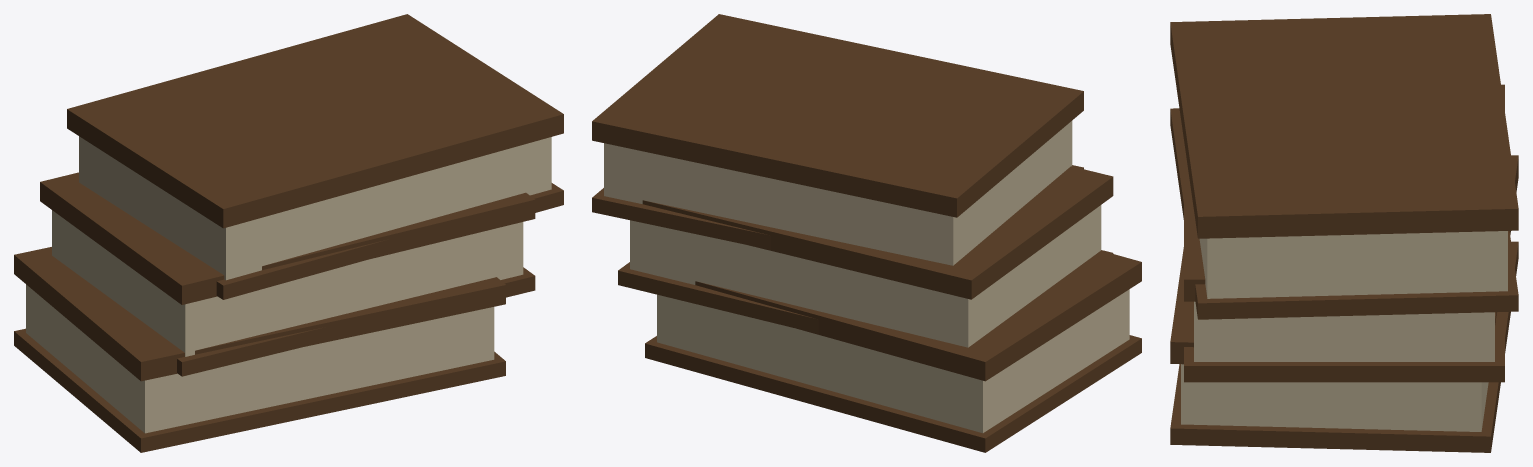
Rendered from books_stack.glb.
The picture shows the model from 3 angles, left to right: view 1: azimuth 30°, elevation 25°; view 2: azimuth 150°, elevation 25°; view 3: azimuth 270°, elevation 25°; orthographic projection. The views are drawn at different scales.
Visible parts, largest first — view 1: _MeshInstance3D_168, paper__book_pages, _MeshInstance3D_167, _MeshInstance3D_164, wood__book_cover, _MeshInstance3D_165, wood__book_back, _MeshInstance3D_169, _MeshInstance3D_166; view 2: _MeshInstance3D_168, paper__book_pages, _MeshInstance3D_164, _MeshInstance3D_167, _MeshInstance3D_165, wood__book_cover, wood__book_back, _MeshInstance3D_166, _MeshInstance3D_169; view 3: _MeshInstance3D_168, _MeshInstance3D_167, paper__book_pages, _MeshInstance3D_164, _MeshInstance3D_169, wood__book_back, _MeshInstance3D_166, _MeshInstance3D_165, wood__book_cover.
Boxes of the visible parts, x1,y1,x2,y2 form: _MeshInstance3D_168: (67,14,563,228); paper__book_pages: (26,284,494,433); _MeshInstance3D_167: (79,136,551,280); _MeshInstance3D_164: (52,210,523,356); wood__book_cover: (14,247,505,381); _MeshInstance3D_165: (40,172,535,304); wood__book_back: (14,328,505,452); _MeshInstance3D_169: (216,183,563,299); _MeshInstance3D_166: (177,267,535,376); _MeshInstance3D_168: (592,14,1083,217); paper__book_pages: (657,289,1129,433); _MeshInstance3D_164: (630,205,1101,347); _MeshInstance3D_167: (604,121,1072,265); _MeshInstance3D_165: (642,166,1113,299); wood__book_cover: (695,250,1141,381); wood__book_back: (645,335,1141,452); _MeshInstance3D_166: (618,250,1113,333); _MeshInstance3D_169: (592,165,1083,249); _MeshInstance3D_168: (1170,14,1518,238); _MeshInstance3D_167: (1199,231,1507,298); paper__book_pages: (1181,364,1488,431); _MeshInstance3D_164: (1194,301,1494,361); _MeshInstance3D_169: (1170,108,1518,319); wood__book_back: (1170,241,1518,452); _MeshInstance3D_166: (1184,312,1504,382); _MeshInstance3D_165: (1184,84,1504,301); wood__book_cover: (1170,155,1518,364).
Bounding box in the file's own units: 0.2752 × 0.1465 × 0.1735.
